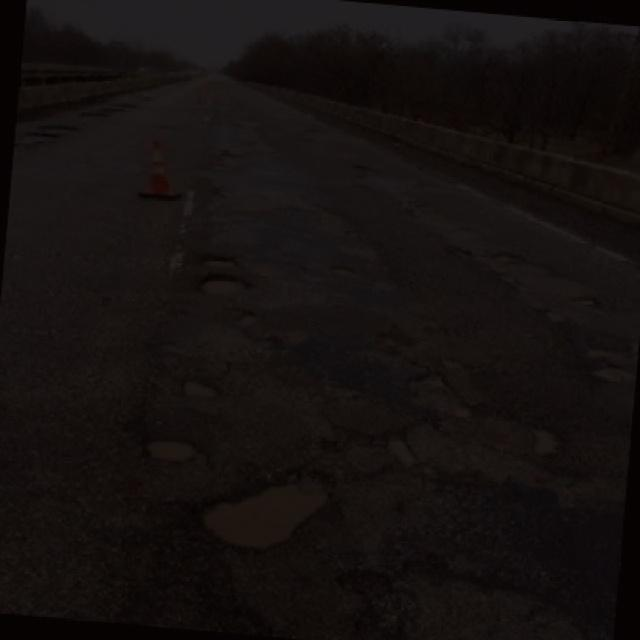Pothole: (182, 456, 346, 558), (407, 358, 481, 420), (126, 432, 212, 466), (523, 414, 571, 464), (590, 335, 640, 383), (193, 271, 252, 298), (387, 429, 421, 473), (176, 374, 220, 401), (534, 296, 569, 328), (488, 236, 522, 268), (203, 250, 240, 270), (328, 253, 353, 281), (569, 293, 605, 312)
